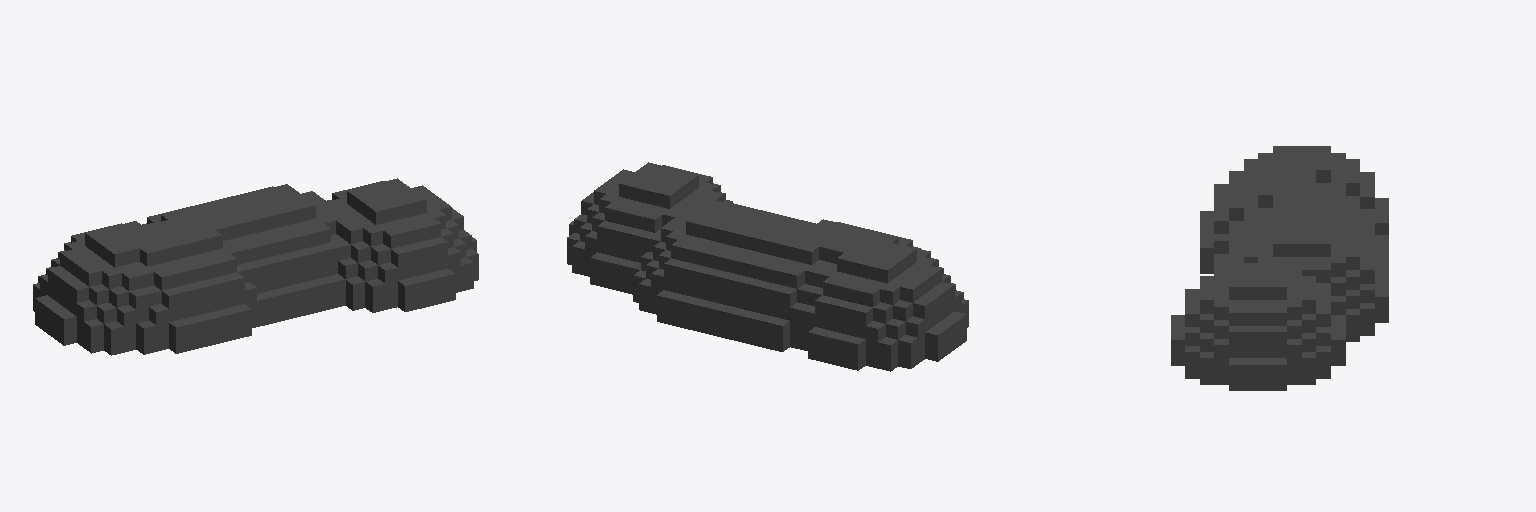
The picture shows the model from 3 angles: view 1: azimuth 30°, elevation 25°; view 2: azimuth 150°, elevation 25°; view 3: azimuth 270°, elevation 25°; orthographic projection.
Visible parts, largest first — view 1: Model; view 2: Model; view 3: Model.
Boxes of the visible parts, x1=… form: Model: x1=33, y1=178, x2=478, y2=355; Model: x1=567, y1=162, x2=968, y2=371; Model: x1=1171, y1=146, x2=1388, y2=390.
Size of the model in its own units: 32 by 6.19 by 15.48.
1 materials, 1 textured.